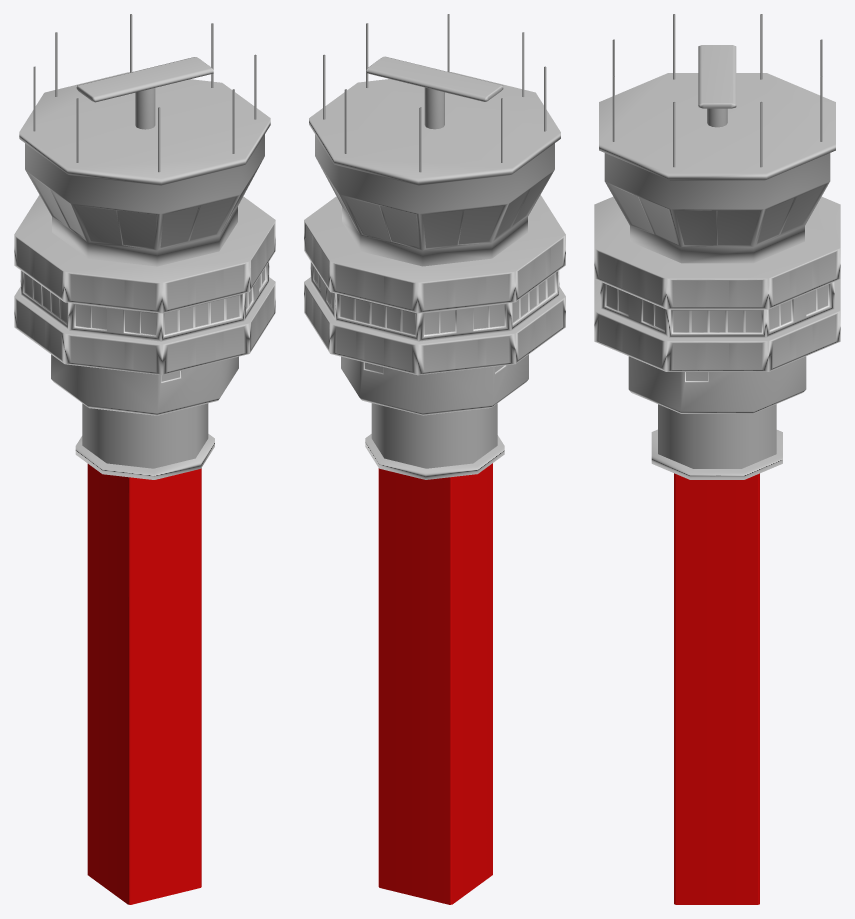
Rendered from tower.fbx.
3 views of the same model, side by side, from view 1: azimuth 30°, elevation 25°; view 2: azimuth 150°, elevation 25°; view 3: azimuth 270°, elevation 25° (orthographic).
Parts seen in each view (by area): view 1: tower, colmesh, radar; view 2: tower, colmesh, radar; view 3: tower, colmesh, radar.
Boxes of the visible parts, box(x1,y1,x2,y2) form: tower: box(14, 14, 275, 479); colmesh: box(87, 464, 201, 904); radar: box(76, 57, 213, 102); tower: box(304, 14, 565, 479); colmesh: box(378, 463, 492, 904); radar: box(366, 56, 503, 101); tower: box(594, 14, 840, 479); colmesh: box(674, 473, 759, 904); radar: box(698, 45, 736, 108).
Size of the model in its own units: 1542 by 5717 by 1542.
